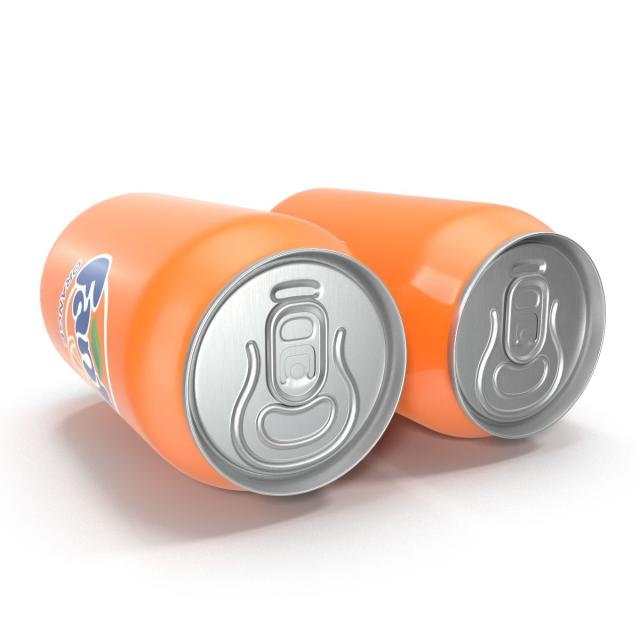fanta: (35, 178, 377, 513)
